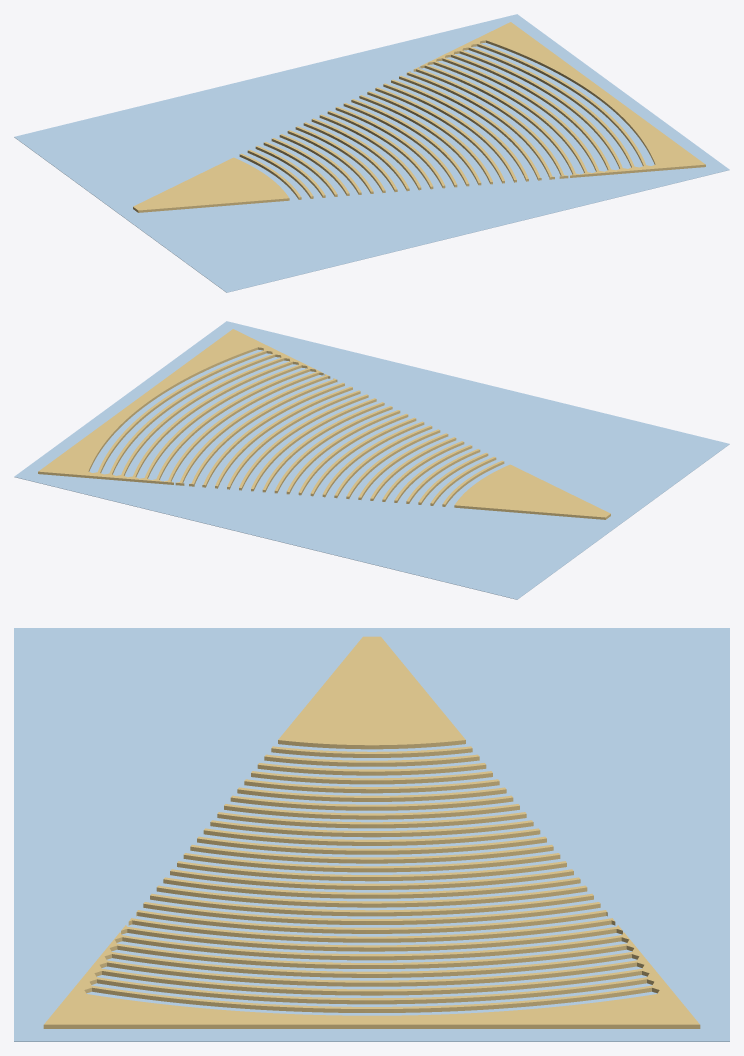
Rendered from cs-sin300-gc.glb.
The picture shows the model from 3 angles, top to bottom: view 1: azimuth 30°, elevation 25°; view 2: azimuth 150°, elevation 25°; view 3: azimuth 270°, elevation 25°; orthographic projection. The views are drawn at different scales.
Parts seen in each view (by area): view 1: box_top, nitride_24, nitride_0, nitride_23, nitride_22, nitride_21, nitride_20, nitride_19, nitride_18, nitride_17, nitride_16, nitride_15 (+9 smaller); view 2: box_top, nitride_24, nitride_0, nitride_23, nitride_22, nitride_21, nitride_20, nitride_19, nitride_18, nitride_17, nitride_16, nitride_15 (+9 smaller); view 3: box_top, nitride_24, nitride_0, nitride_23, nitride_22, nitride_21, nitride_20, nitride_19, nitride_18, nitride_17, nitride_16, nitride_15 (+14 smaller).
Part boxes in pixels (x1=…): box_top: x1=14, y1=14, x2=729, y2=292; nitride_24: x1=420, y1=22, x2=705, y2=177; nitride_0: x1=133, y1=157, x2=289, y2=212; nitride_23: x1=413, y1=67, x2=568, y2=178; nitride_22: x1=406, y1=71, x2=554, y2=179; nitride_21: x1=399, y1=75, x2=541, y2=180; nitride_20: x1=391, y1=79, x2=528, y2=181; nitride_19: x1=383, y1=83, x2=516, y2=182; nitride_18: x1=375, y1=87, x2=504, y2=183; nitride_17: x1=367, y1=91, x2=492, y2=184; nitride_16: x1=359, y1=95, x2=481, y2=185; nitride_15: x1=351, y1=99, x2=469, y2=186; box_top: x1=14, y1=321, x2=729, y2=599; nitride_24: x1=38, y1=329, x2=323, y2=484; nitride_0: x1=454, y1=464, x2=610, y2=519; nitride_23: x1=175, y1=374, x2=330, y2=485; nitride_22: x1=189, y1=378, x2=337, y2=486; nitride_21: x1=202, y1=382, x2=344, y2=487; nitride_20: x1=215, y1=386, x2=352, y2=488; nitride_19: x1=227, y1=390, x2=360, y2=489; nitride_18: x1=239, y1=394, x2=368, y2=490; nitride_17: x1=251, y1=398, x2=376, y2=491; nitride_16: x1=262, y1=402, x2=384, y2=492; nitride_15: x1=274, y1=406, x2=392, y2=493; box_top: x1=14, y1=628, x2=729, y2=1041; nitride_24: x1=43, y1=932, x2=700, y2=1028; nitride_0: x1=278, y1=636, x2=465, y2=749; nitride_23: x1=121, y1=925, x2=622, y2=951; nitride_22: x1=128, y1=918, x2=615, y2=942; nitride_21: x1=136, y1=910, x2=607, y2=933; nitride_20: x1=143, y1=902, x2=600, y2=924; nitride_19: x1=150, y1=893, x2=593, y2=916; nitride_18: x1=156, y1=885, x2=587, y2=907; nitride_17: x1=163, y1=877, x2=580, y2=898; nitride_16: x1=170, y1=869, x2=573, y2=889; nitride_15: x1=177, y1=861, x2=566, y2=881.
Bounding box in the file's own units: 65.83 × 0.34 × 48.19.
